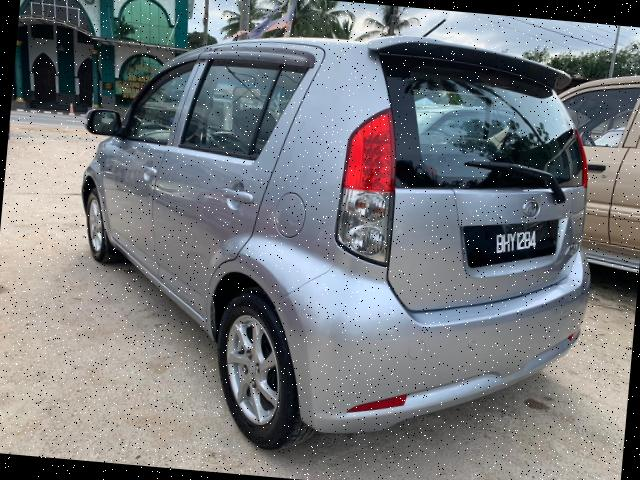License_Plate: (482, 214, 554, 266)
